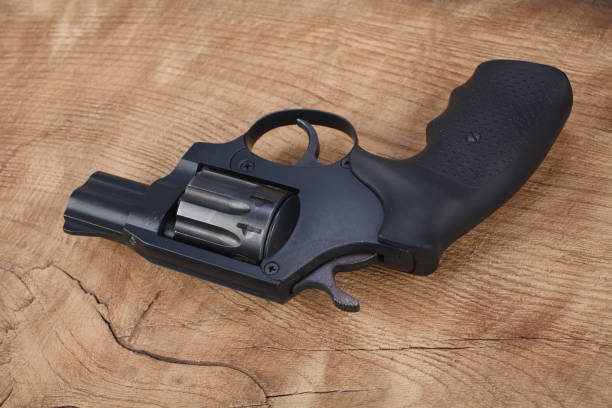gun: (59, 56, 574, 311)
